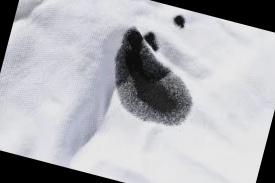ink: (102, 26, 205, 132), (170, 13, 188, 30)
